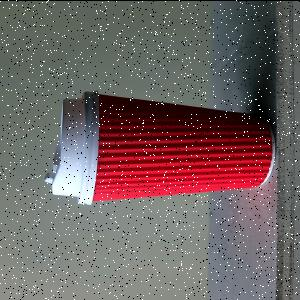Cup: (44, 90, 278, 206)
